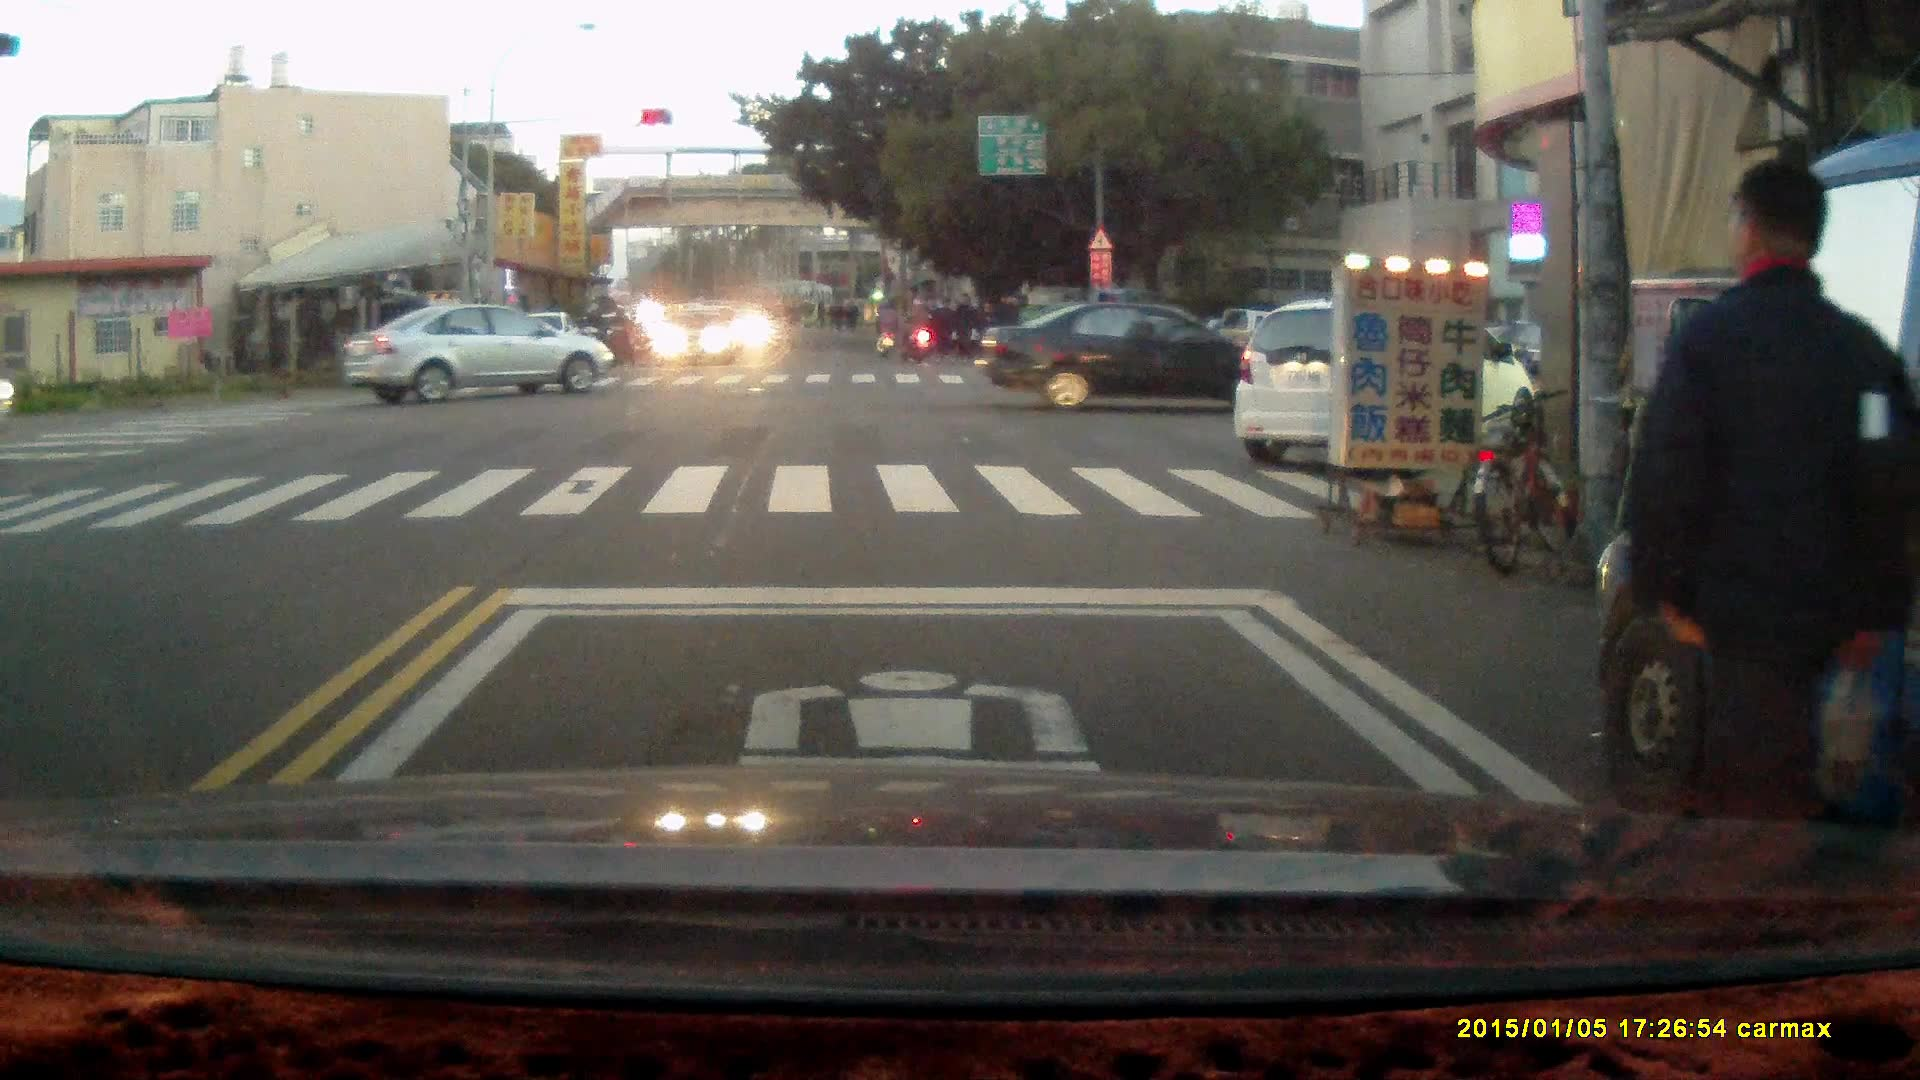pedestrian: (1633, 154, 1920, 855), (949, 289, 976, 366)
rider: (898, 296, 935, 362), (576, 301, 608, 367), (870, 295, 901, 359), (604, 301, 631, 363)
vehicle: (1598, 132, 1920, 845), (1233, 296, 1533, 459), (974, 298, 1248, 413), (347, 304, 618, 406), (1002, 284, 1179, 367)
